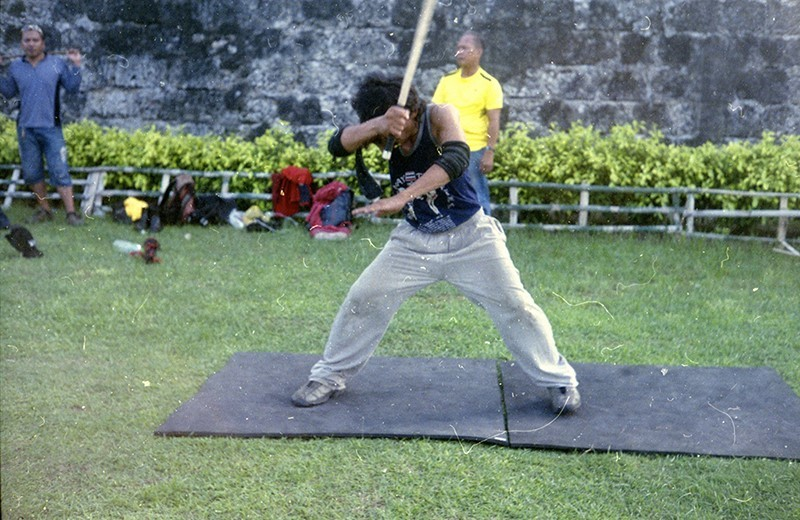baston_e: (381, 4, 437, 154)
baston_v: (376, 146, 392, 163)
